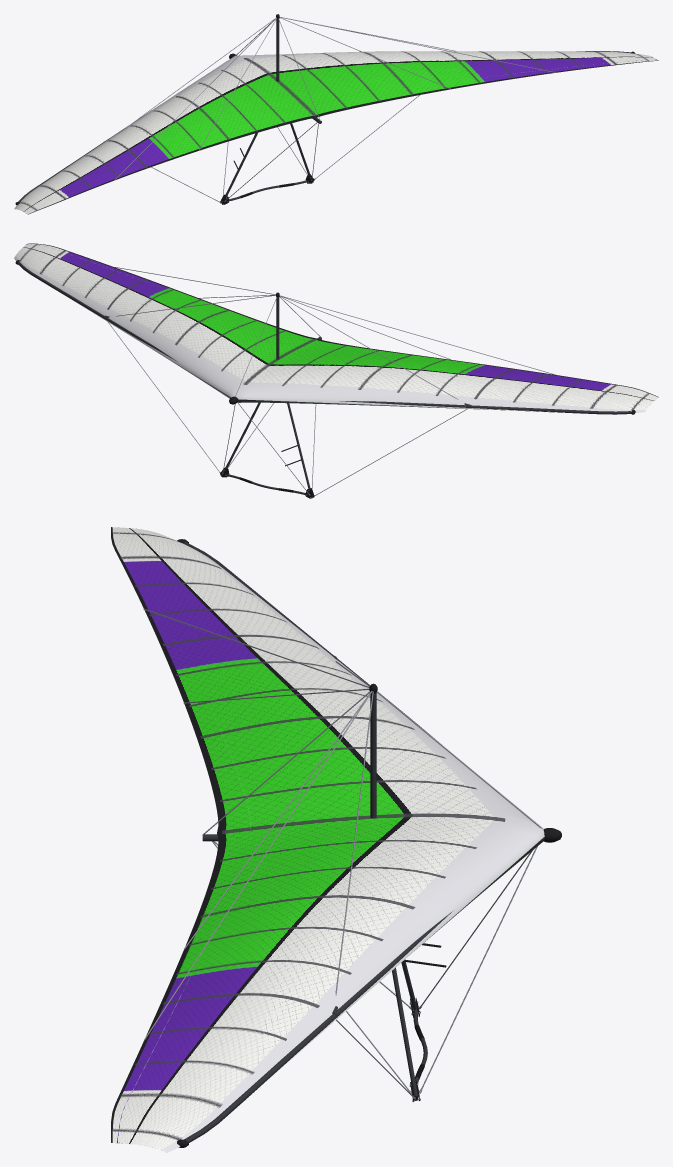
Rendered from glider_seed_skyrunner_xr.glb.
3 renders of one model, top to bottom at view 1: azimuth 30°, elevation 25°; view 2: azimuth 150°, elevation 25°; view 3: azimuth 270°, elevation 25°, orthographic. The views are drawn at different scales.
Parts seen in each view (by area): view 1: Sail, Frame, ControlFrame; view 2: Sail, Frame, ControlFrame; view 3: Sail, Frame, ControlFrame.
Part boxes in pixels (left/top/right/bottom): Sail: left=14, top=51, right=658, bottom=214; Frame: left=15, top=14, right=635, bottom=205; ControlFrame: left=151, top=95, right=419, bottom=204; Sail: left=14, top=243, right=658, bottom=412; Frame: left=15, top=260, right=635, bottom=414; ControlFrame: left=108, top=322, right=467, bottom=498; Sail: left=111, top=527, right=544, bottom=1152; Frame: left=143, top=539, right=561, bottom=1147; ControlFrame: left=212, top=841, right=537, bottom=1101.
Bounding box in the file's own units: 10.2 × 2.9 × 3.16.
8 materials, 1 textured.
